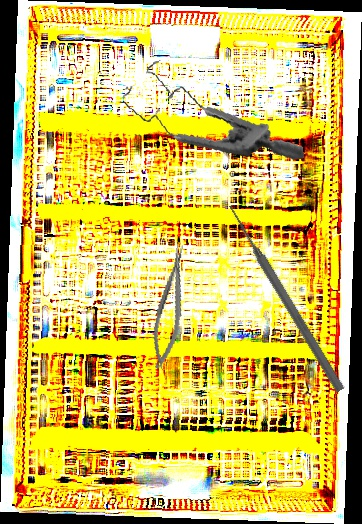Needle Holder: (145, 242, 196, 373)
Pusher: (224, 202, 347, 394)
Speculum: (117, 40, 305, 185)
